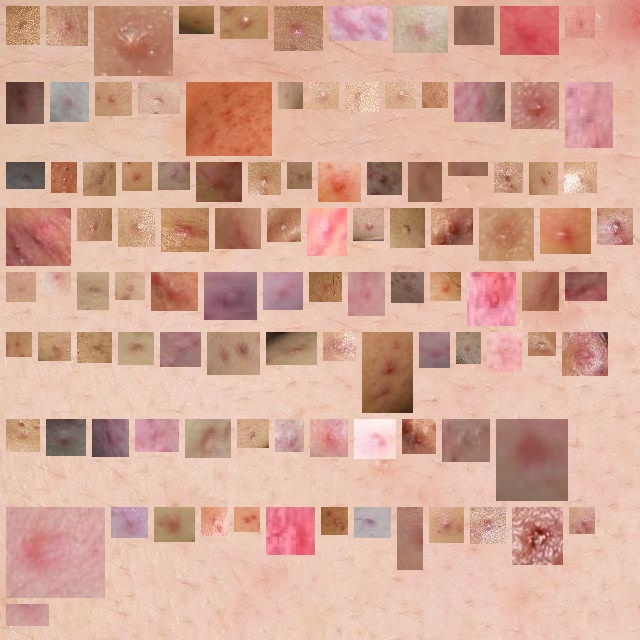papule: (14, 515, 97, 590), (194, 90, 264, 148), (504, 427, 560, 493), (102, 14, 165, 68), (370, 340, 405, 405), (14, 216, 63, 258), (573, 90, 605, 140), (520, 515, 555, 557), (487, 216, 526, 253), (508, 14, 551, 47), (475, 280, 508, 318), (401, 14, 440, 45), (212, 280, 249, 312), (274, 515, 307, 547), (548, 216, 583, 246), (215, 340, 252, 367), (519, 90, 551, 121), (282, 14, 315, 43), (169, 216, 201, 244), (450, 427, 482, 454), (462, 90, 497, 114), (570, 340, 600, 368), (405, 515, 422, 562), (337, 14, 379, 33), (315, 216, 339, 248), (223, 216, 253, 241), (204, 170, 234, 194), (159, 280, 190, 303), (193, 427, 223, 450), (326, 170, 353, 194), (54, 14, 80, 38), (362, 427, 388, 451), (274, 340, 309, 357), (356, 280, 377, 308), (14, 90, 36, 116), (462, 14, 486, 37), (58, 90, 81, 114), (439, 216, 465, 237), (228, 14, 260, 31), (271, 280, 295, 302), (573, 280, 599, 300), (54, 427, 78, 448), (318, 427, 340, 449), (126, 216, 147, 239), (530, 280, 551, 303), (143, 427, 171, 444), (168, 340, 193, 359), (162, 515, 187, 534), (100, 427, 121, 449), (398, 216, 417, 240), (495, 340, 514, 364), (416, 170, 434, 194), (605, 216, 625, 237), (478, 515, 498, 536), (146, 90, 172, 106), (14, 14, 32, 37), (14, 170, 37, 188), (437, 515, 456, 535), (103, 90, 124, 108), (14, 604, 41, 618), (85, 280, 101, 302), (410, 427, 428, 446), (126, 340, 146, 357), (275, 216, 293, 234), (375, 170, 394, 187), (85, 216, 104, 233), (119, 515, 140, 530), (362, 515, 383, 530), (91, 170, 108, 188), (14, 427, 32, 444), (427, 340, 442, 360), (256, 170, 273, 187), (85, 340, 104, 355), (572, 170, 589, 185), (361, 216, 376, 233), (399, 280, 416, 295), (353, 90, 371, 104), (317, 280, 334, 294), (187, 14, 206, 26), (573, 14, 587, 30), (537, 170, 550, 187), (46, 340, 63, 353), (331, 340, 348, 353), (283, 427, 296, 444), (245, 427, 261, 440), (14, 280, 28, 294), (502, 170, 515, 185), (438, 280, 453, 293), (166, 170, 182, 182), (130, 170, 144, 183), (123, 280, 137, 292), (393, 90, 408, 101), (317, 90, 331, 101), (59, 170, 69, 185), (464, 340, 473, 356), (209, 515, 220, 528), (329, 515, 340, 527), (577, 515, 587, 526), (430, 90, 440, 100), (286, 90, 295, 101), (295, 170, 304, 181), (536, 340, 548, 348), (14, 340, 24, 349), (242, 515, 252, 524)
